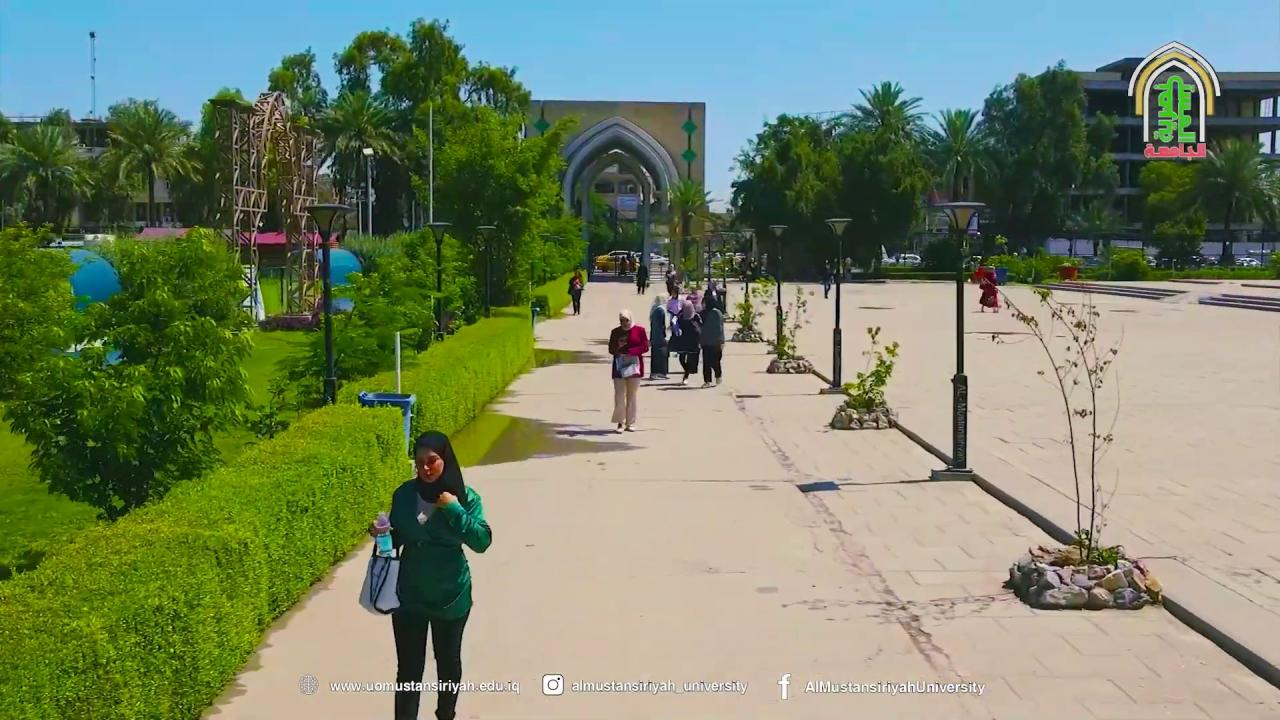car: (1234, 255, 1260, 268), (898, 252, 922, 265)
person: (369, 430, 492, 719), (608, 309, 649, 432), (670, 299, 703, 387), (696, 298, 728, 388), (640, 296, 674, 376), (972, 258, 1003, 317), (567, 270, 584, 316), (820, 258, 833, 298), (633, 269, 645, 296), (843, 256, 852, 281)
tree: (728, 59, 1121, 274), (0, 238, 261, 537), (1013, 291, 1152, 601), (333, 16, 531, 229), (729, 79, 934, 276), (425, 102, 580, 313), (972, 59, 1119, 271), (267, 252, 435, 408), (728, 111, 842, 279), (831, 79, 932, 267), (0, 218, 80, 400), (97, 98, 202, 227), (314, 86, 402, 236), (1187, 134, 1279, 266), (1, 119, 92, 230), (1058, 110, 1121, 258), (402, 225, 476, 338), (195, 85, 253, 224), (1136, 158, 1205, 266), (829, 325, 899, 430), (919, 106, 993, 203), (662, 175, 712, 284), (266, 45, 328, 131), (848, 79, 926, 146), (766, 284, 814, 374), (730, 289, 764, 341)
